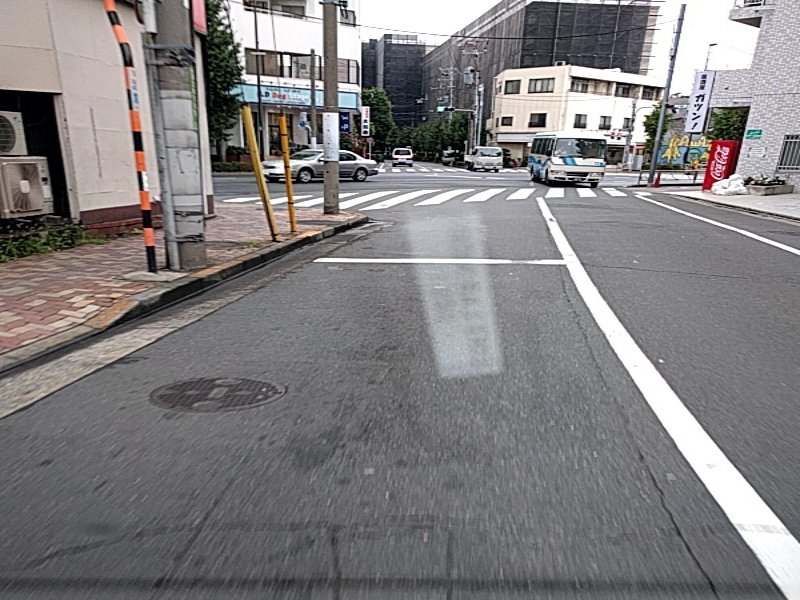long_crack: (545, 273, 716, 551)
